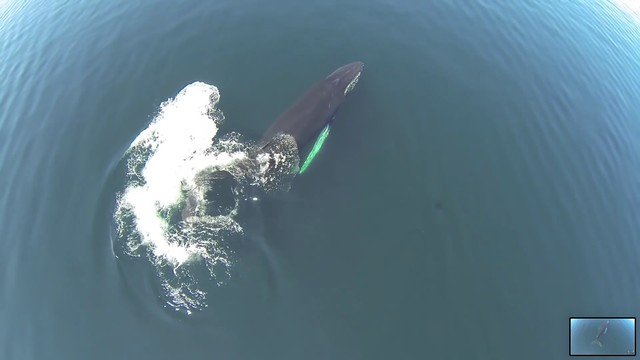whale: (190, 53, 372, 292)
